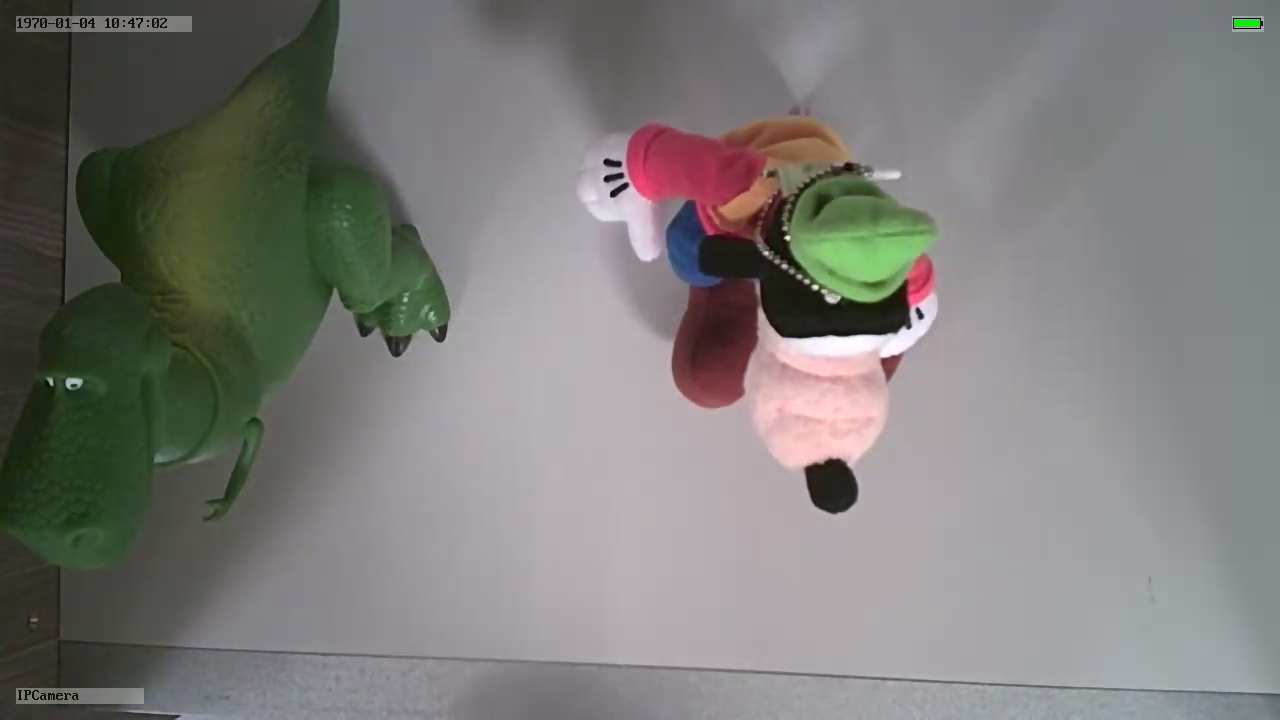goofy: (570, 115, 944, 515)
